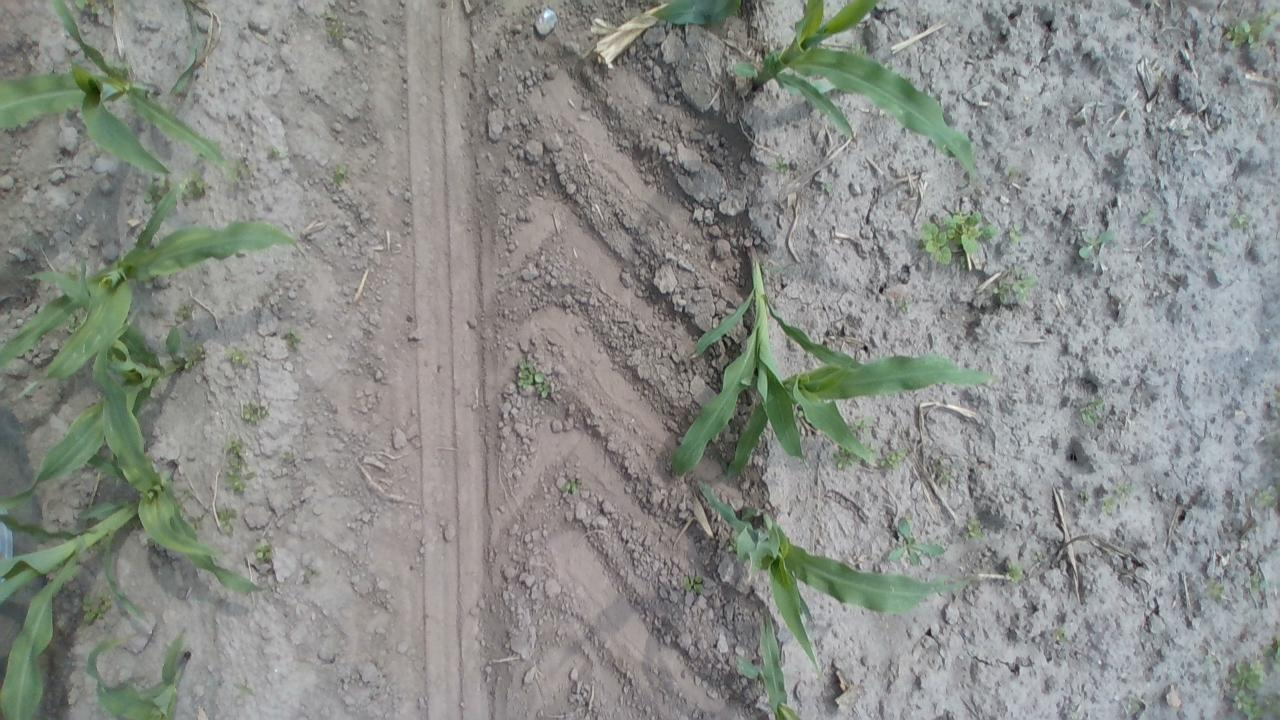Maize: (670, 253, 1001, 480), (0, 176, 314, 395), (0, 449, 220, 720), (701, 470, 979, 679), (0, 259, 188, 520), (0, 0, 241, 189), (92, 325, 258, 596), (734, 0, 980, 179), (719, 352, 995, 485), (83, 624, 197, 716), (734, 613, 810, 720), (167, 0, 203, 96), (651, 0, 758, 29)
Weeds: (918, 207, 998, 266), (885, 512, 946, 570), (1222, 9, 1276, 54), (222, 432, 254, 497), (990, 267, 1040, 307), (513, 356, 554, 402), (1077, 226, 1118, 264), (78, 592, 118, 629), (1100, 479, 1134, 517), (1226, 660, 1264, 690), (181, 168, 210, 202), (1233, 691, 1265, 720), (142, 174, 170, 207), (876, 443, 907, 472), (847, 412, 879, 440), (1080, 395, 1106, 428), (240, 397, 268, 426), (929, 456, 954, 488), (215, 503, 239, 536), (184, 337, 208, 370), (832, 443, 859, 472), (324, 15, 349, 46), (226, 156, 253, 183), (226, 346, 255, 371), (1262, 632, 1280, 672), (1005, 558, 1026, 592), (1203, 576, 1227, 604), (1134, 204, 1162, 228), (1244, 570, 1266, 600), (280, 325, 305, 351), (174, 484, 192, 518), (560, 474, 584, 499), (1004, 221, 1026, 248), (681, 574, 710, 594), (738, 502, 762, 526), (964, 518, 986, 544), (1230, 211, 1254, 234), (252, 541, 274, 566), (1254, 485, 1276, 510), (106, 58, 132, 78), (1263, 690, 1280, 720), (70, 0, 104, 15), (64, 310, 85, 332), (175, 303, 198, 323), (848, 40, 872, 59), (232, 679, 258, 696), (332, 160, 350, 184), (769, 153, 790, 173), (1050, 626, 1070, 647), (277, 448, 299, 467), (895, 294, 915, 313), (814, 177, 834, 196), (302, 564, 322, 582), (1126, 696, 1146, 714), (267, 144, 292, 158), (1001, 163, 1018, 182), (187, 516, 204, 532), (1076, 486, 1092, 503), (87, 144, 103, 158), (1204, 650, 1220, 664), (1032, 550, 1046, 565), (66, 264, 80, 278), (146, 536, 160, 548), (728, 539, 738, 552), (1275, 391, 1280, 410), (798, 408, 804, 418)
